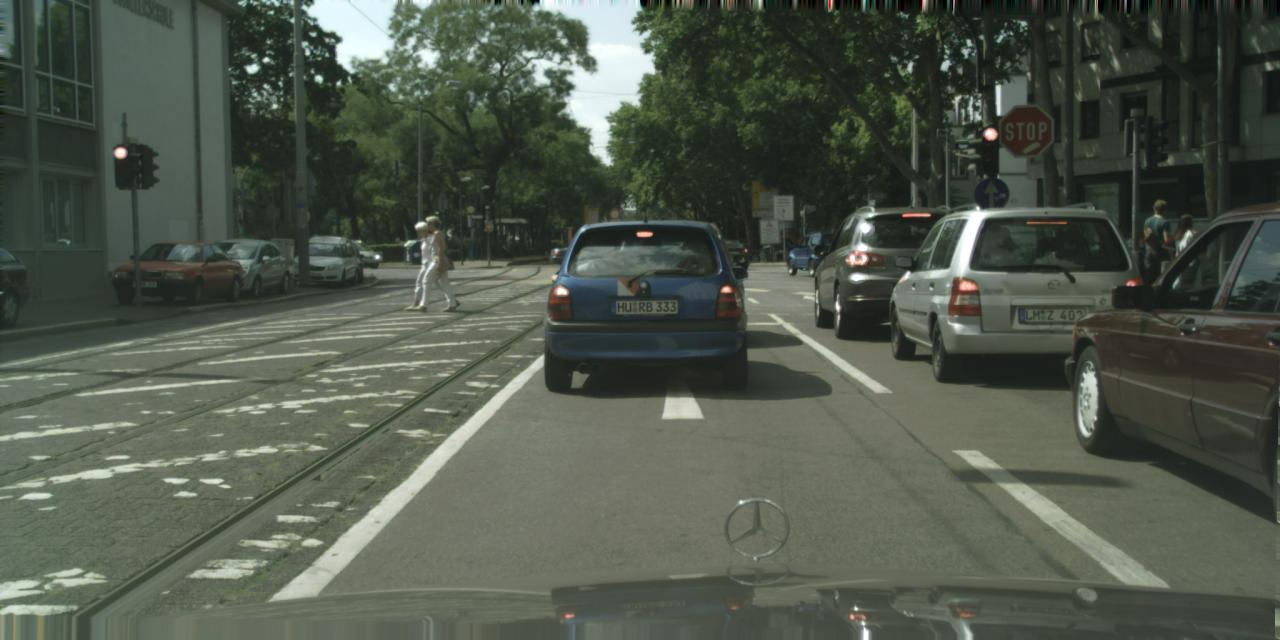ped: (1135, 200, 1182, 315), (414, 214, 454, 310), (1167, 215, 1205, 307), (410, 220, 446, 309)
